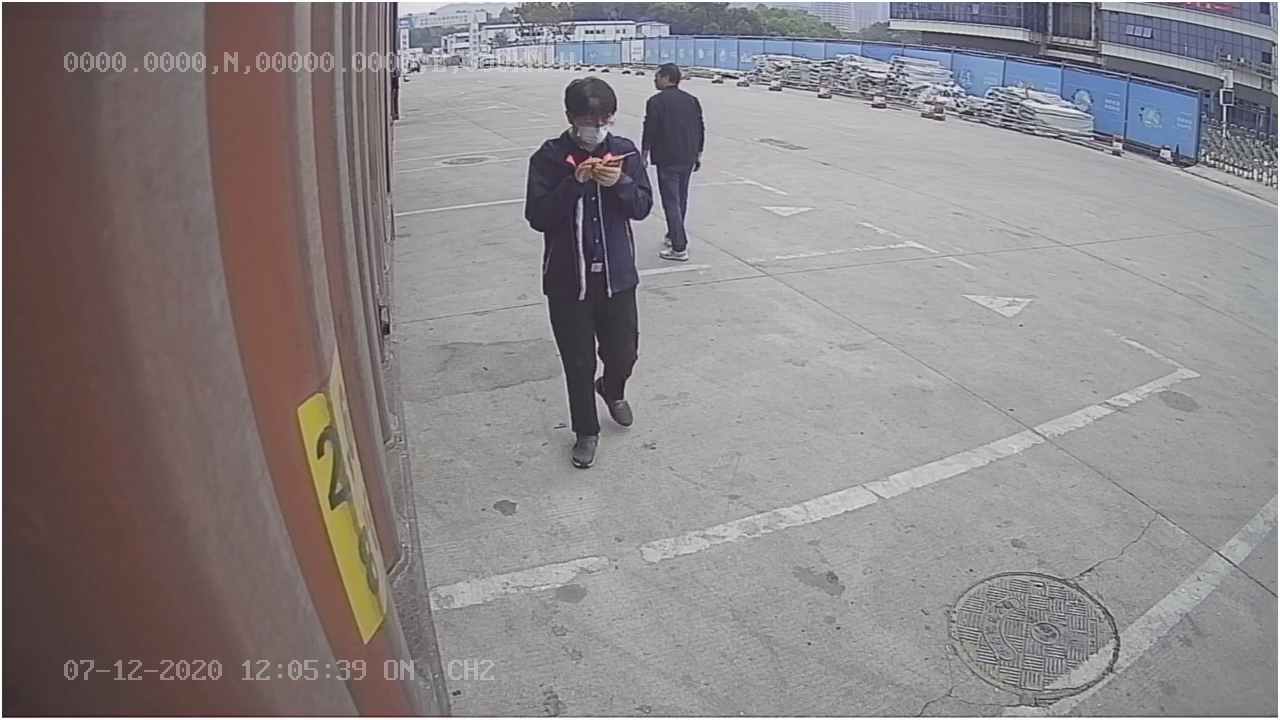person: (523, 77, 652, 469)
